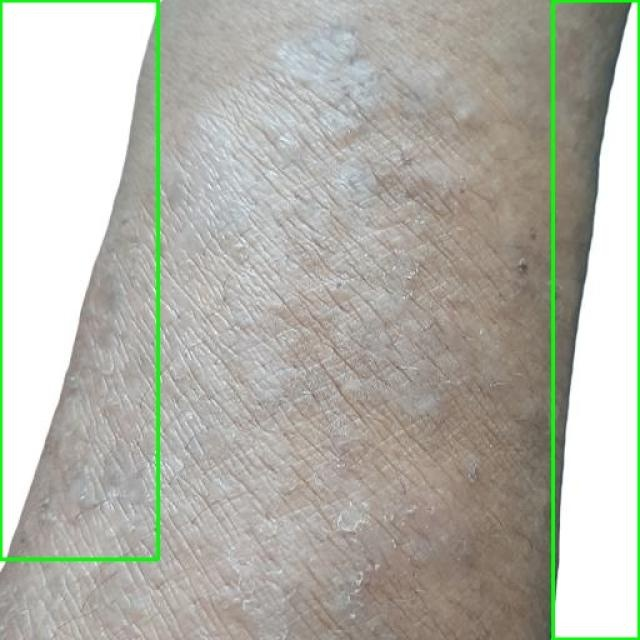Tinea Corporis: (0, 0, 158, 559), (552, 0, 639, 639)
